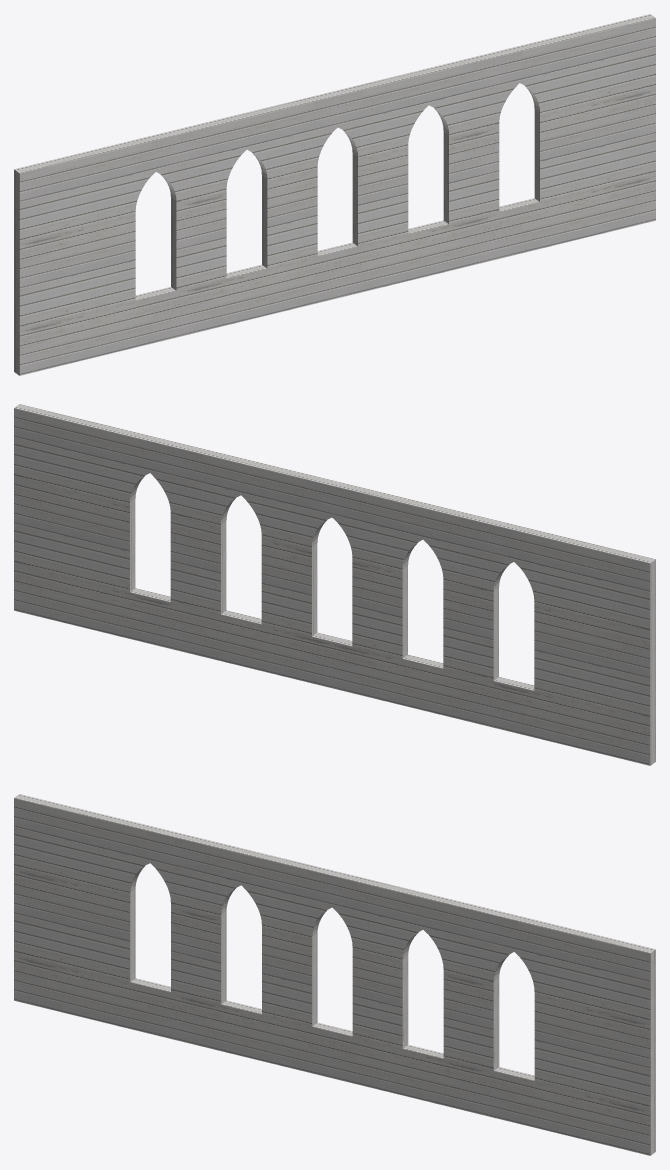
Rendered from Wall 2.FBX.
3 renders of one model, top to bottom at view 1: azimuth 30°, elevation 25°; view 2: azimuth 150°, elevation 25°; view 3: azimuth 330°, elevation 25°, orthographic.
Parts seen in each view (by area): view 1: Wall 2; view 2: Wall 2; view 3: Wall 2.
Boxes of the visible parts, x1,y1,x2,y2 form: Wall 2: [14, 14, 655, 375]; Wall 2: [14, 404, 655, 765]; Wall 2: [14, 794, 655, 1155].
Size of the model in its own units: 1311 by 399 by 19.94.
1 material, 1 textured.
